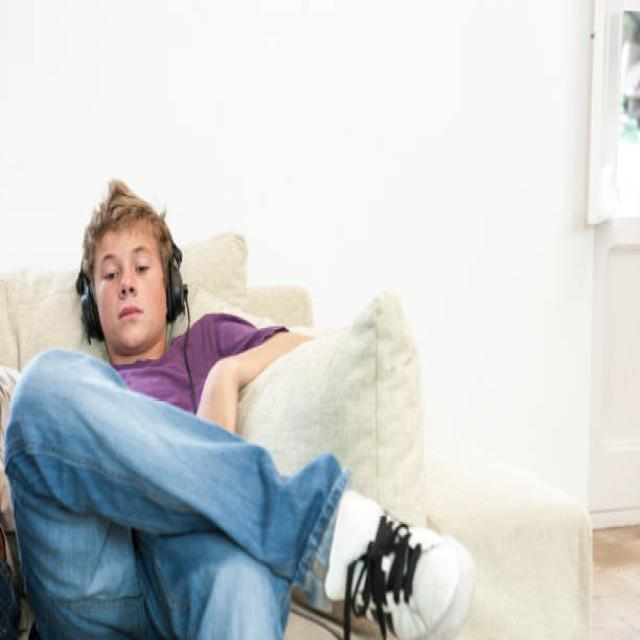Headphone: (76, 236, 188, 342)
